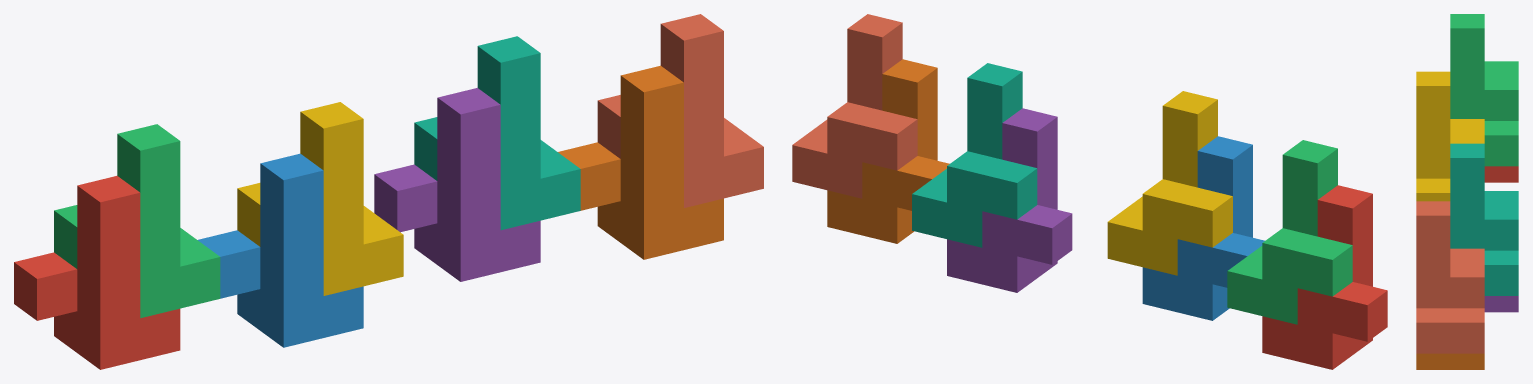
The model's file is tiling.obj.
The picture shows the model from 3 angles, left to right: view 1: azimuth 30°, elevation 25°; view 2: azimuth 150°, elevation 25°; view 3: azimuth 270°, elevation 25°; orthographic projection. The views are drawn at different scales.
Visible parts, largest first — view 1: copy_1_domain_1, copy_1_domain_5, copy_1_domain_2, copy_1_domain_6, copy_1_domain_7, copy_1_domain_4, copy_1_domain_3, copy_1_domain_8; view 2: copy_1_domain_7, copy_1_domain_8, copy_1_domain_3, copy_1_domain_4, copy_1_domain_1, copy_1_domain_5, copy_1_domain_2, copy_1_domain_6; view 3: copy_1_domain_8, copy_1_domain_7, copy_1_domain_3, copy_1_domain_4, copy_1_domain_6, copy_1_domain_1, copy_1_domain_5.
Part boxes in pixels (box(x1,y1,x2,y2)): copy_1_domain_1: box(14, 176, 180, 369); copy_1_domain_5: box(374, 88, 540, 281); copy_1_domain_2: box(198, 153, 363, 347); copy_1_domain_6: box(558, 65, 723, 259); copy_1_domain_7: box(414, 36, 580, 230); copy_1_domain_4: box(237, 102, 403, 295); copy_1_domain_3: box(54, 124, 220, 318); copy_1_domain_8: box(597, 14, 763, 207); copy_1_domain_7: box(912, 63, 1037, 247); copy_1_domain_8: box(792, 14, 917, 198); copy_1_domain_3: box(1227, 140, 1352, 324); copy_1_domain_4: box(1107, 91, 1232, 275); copy_1_domain_1: box(1262, 185, 1387, 369); copy_1_domain_5: box(947, 108, 1072, 292); copy_1_domain_2: box(1142, 136, 1264, 320); copy_1_domain_6: box(827, 59, 949, 243); copy_1_domain_8: box(1416, 201, 1484, 353); copy_1_domain_7: box(1450, 143, 1518, 295); copy_1_domain_3: box(1450, 14, 1518, 166); copy_1_domain_4: box(1416, 71, 1484, 201); copy_1_domain_6: box(1416, 353, 1484, 369); copy_1_domain_1: box(1484, 166, 1518, 182); copy_1_domain_5: box(1484, 296, 1518, 312).
Bounding box in the file's own units: 17 × 5 × 3.
